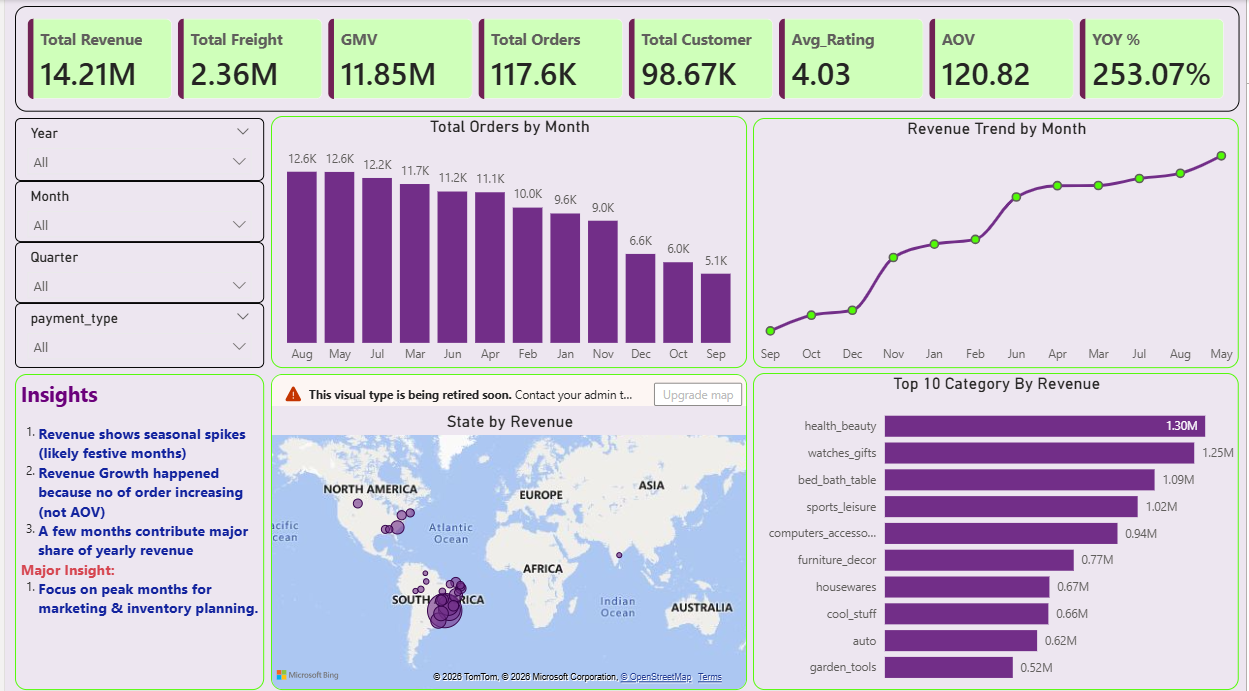

What the dashboard file says about the page in this screenshot:
{"tool":"powerbi","page":{"name":"Overview (Executive Dashboard)","canvas":[1280,720],"ordinal":0},"visuals":[{"type":"cardVisual","fields":{"Data":["public bi_fact_sales.Total Revenue","public bi_fact_sales.Total Freight","public bi_fact_sales.GMV","public bi_fact_sales.Total Orders","public bi_fact_sales.Total Customer","public bi_fact_sales.Avg_Rating","public bi_fact_sales.AOV","public bi_fact_sales.YOY"]},"box":[10.4,6.2,1263.3,109.4],"z":0},{"type":"lineChart","title":"Revenue Trend by Month","fields":{"Y":["public bi_fact_sales.Total Revenue"],"Category":["Dim_Date.Month"]},"box":[772,122,501,258],"z":1000},{"type":"barChart","title":"Top 10 Category By Revenue","fields":{"Category":["public bi_fact_sales.category"],"Y":["public bi_fact_sales.Total Revenue"]},"box":[772,385,501,327],"z":2000},{"type":"columnChart","fields":{"Category":["Dim_Date.Month"],"Y":["public bi_fact_sales.Total Orders"]},"box":[274,120,491,260],"z":3000},{"type":"map","title":"State by Revenue","fields":{"Category":["public bi_fact_sales.customer_state"],"Size":["public bi_fact_sales.Total Revenue"]},"box":[274.4,385.8,491,325.9],"z":4000},{"type":"slicer","fields":{"Values":["Dim_Date.Year"]},"box":[10,122,257,65],"z":5000},{"type":"slicer","fields":{"Values":["Dim_Date.Month"]},"box":[10,187,257,63],"z":6000},{"type":"slicer","fields":{"Values":["Dim_Date.Quarter"]},"box":[10,250,257,63],"z":7000},{"type":"slicer","fields":{"Values":["public bi_fact_sales.payment_type"]},"box":[10,313,257,67],"z":8000},{"type":"textbox","box":[10,386,257,326],"z":9000}]}

Visuals, with their boxes in screenshot pixels (x1, y1, x2, y2), scaled from the page's 1280x720 canvas onto the 1249x691 screenshot:
cardVisual - public bi_fact_sales.Total Revenue x public bi_fact_sales.Total Freight: box=[10, 6, 1243, 111]
"Revenue Trend by Month" lineChart: box=[753, 117, 1242, 365]
"Top 10 Category By Revenue" barChart: box=[753, 369, 1242, 683]
columnChart - Dim_Date.Month x public bi_fact_sales.Total Orders: box=[267, 115, 746, 365]
"State by Revenue" map: box=[268, 370, 747, 683]
slicer - Dim_Date.Year: box=[10, 117, 261, 179]
slicer - Dim_Date.Month: box=[10, 179, 261, 240]
slicer - Dim_Date.Quarter: box=[10, 240, 261, 300]
slicer - public bi_fact_sales.payment_type: box=[10, 300, 261, 365]
textbox: box=[10, 370, 261, 683]
